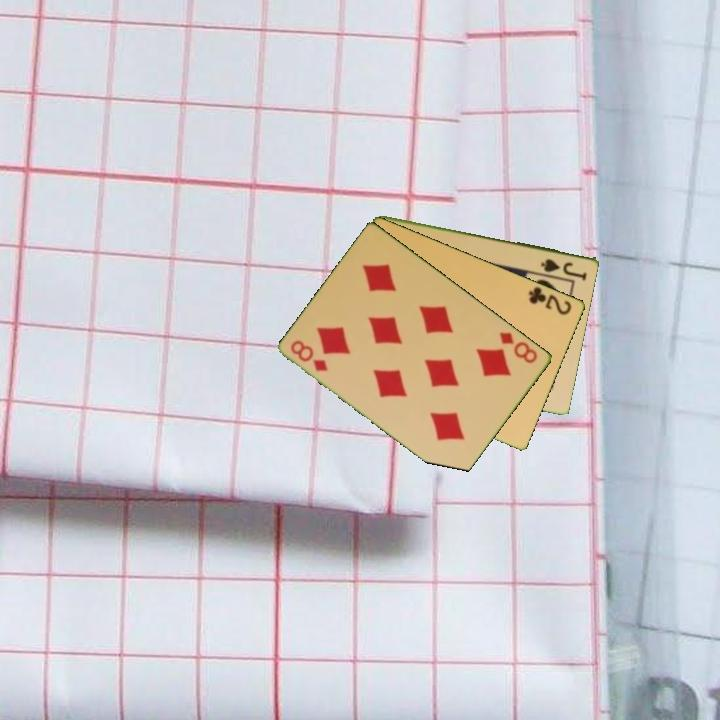2c: (525, 283, 575, 318)
8d: (496, 328, 541, 366), (287, 336, 331, 374)
Js: (538, 255, 590, 281)
